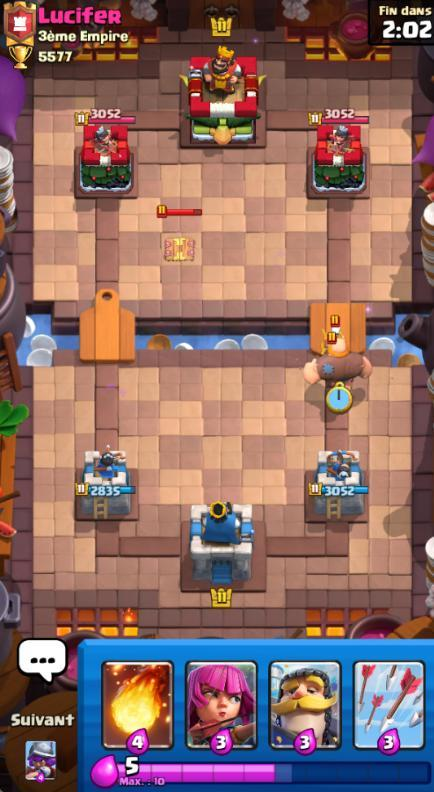enemy_skeletons: (312, 312, 348, 336)
enemy_tesla: (142, 199, 209, 271)
player_giant: (301, 336, 373, 400)
